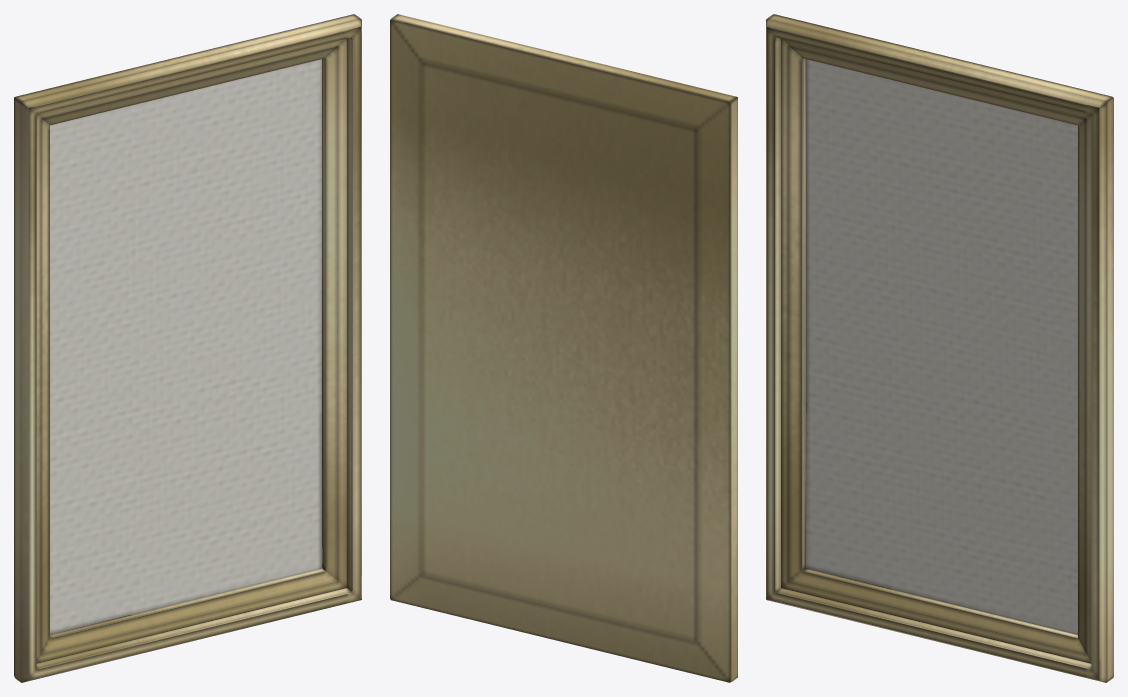
The model's file is PictureFrameVertical.fbx.
3 renders of one model, left to right at view 1: azimuth 30°, elevation 25°; view 2: azimuth 150°, elevation 25°; view 3: azimuth 330°, elevation 25°, orthographic.
Visible parts, largest first — view 1: PictureFrame; view 2: PictureFrame; view 3: PictureFrame.
Part boxes in pixels (box(x1,y1,x2,y2)): PictureFrame: box(14, 14, 361, 682); PictureFrame: box(390, 14, 737, 682); PictureFrame: box(766, 14, 1113, 682).
Size of the model in its own units: 447 by 729 by 26.07.
Materials: 1 (1 with a texture image).
